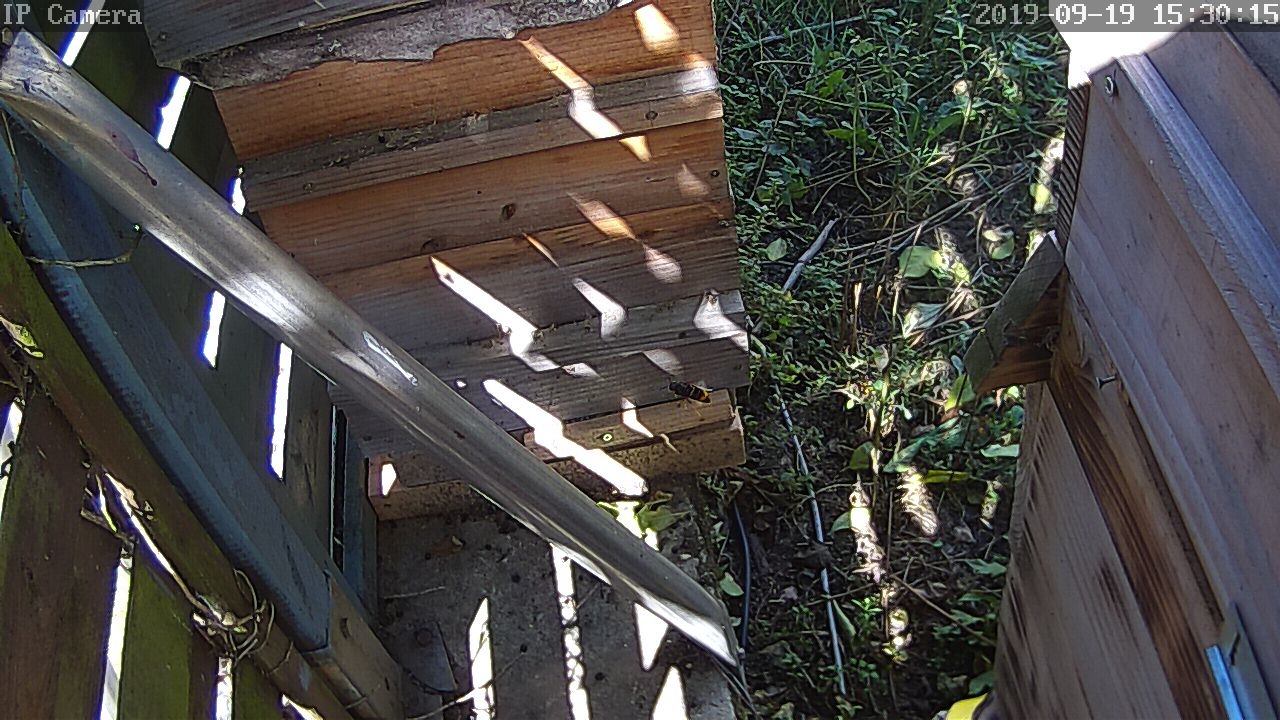hornet: (658, 370, 721, 412)
